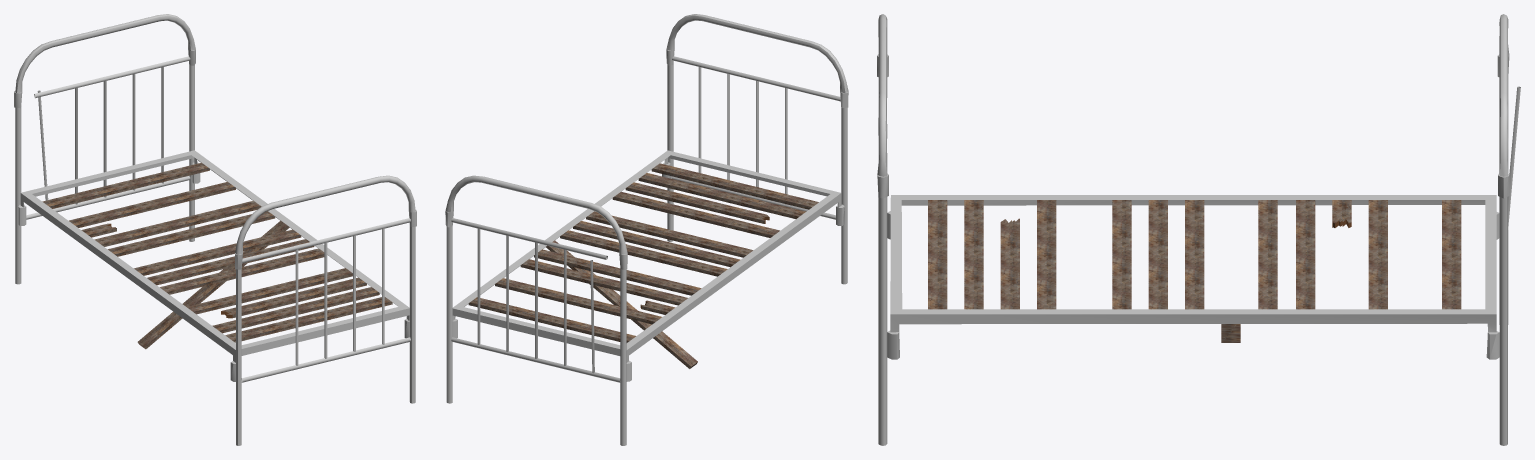
Rendered from Bad_Broken_002.fbx.
3 renders of one model, left to right at view 1: azimuth 30°, elevation 25°; view 2: azimuth 150°, elevation 25°; view 3: azimuth 270°, elevation 25°, orthographic. The views are drawn at different scales.
Parts seen in each view (by area): view 1: Bad_Broken_002; view 2: Bad_Broken_002; view 3: Bad_Broken_002.
Boxes of the visible parts, left/top/right/bottom form: Bad_Broken_002: left=14, top=14, right=416, bottom=445; Bad_Broken_002: left=445, top=14, right=848, bottom=445; Bad_Broken_002: left=877, top=14, right=1520, bottom=445.
Size of the model in its own units: 103 by 127 by 225.
